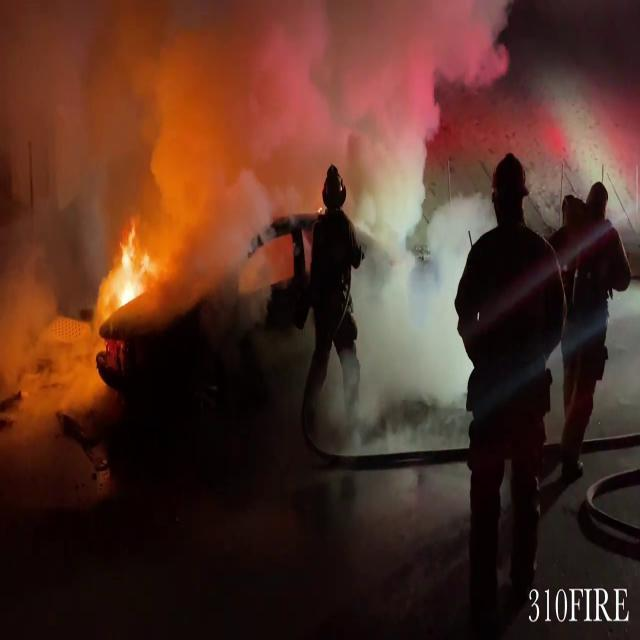Fire: (96, 223, 158, 325)
Smoke: (4, 0, 484, 313)
